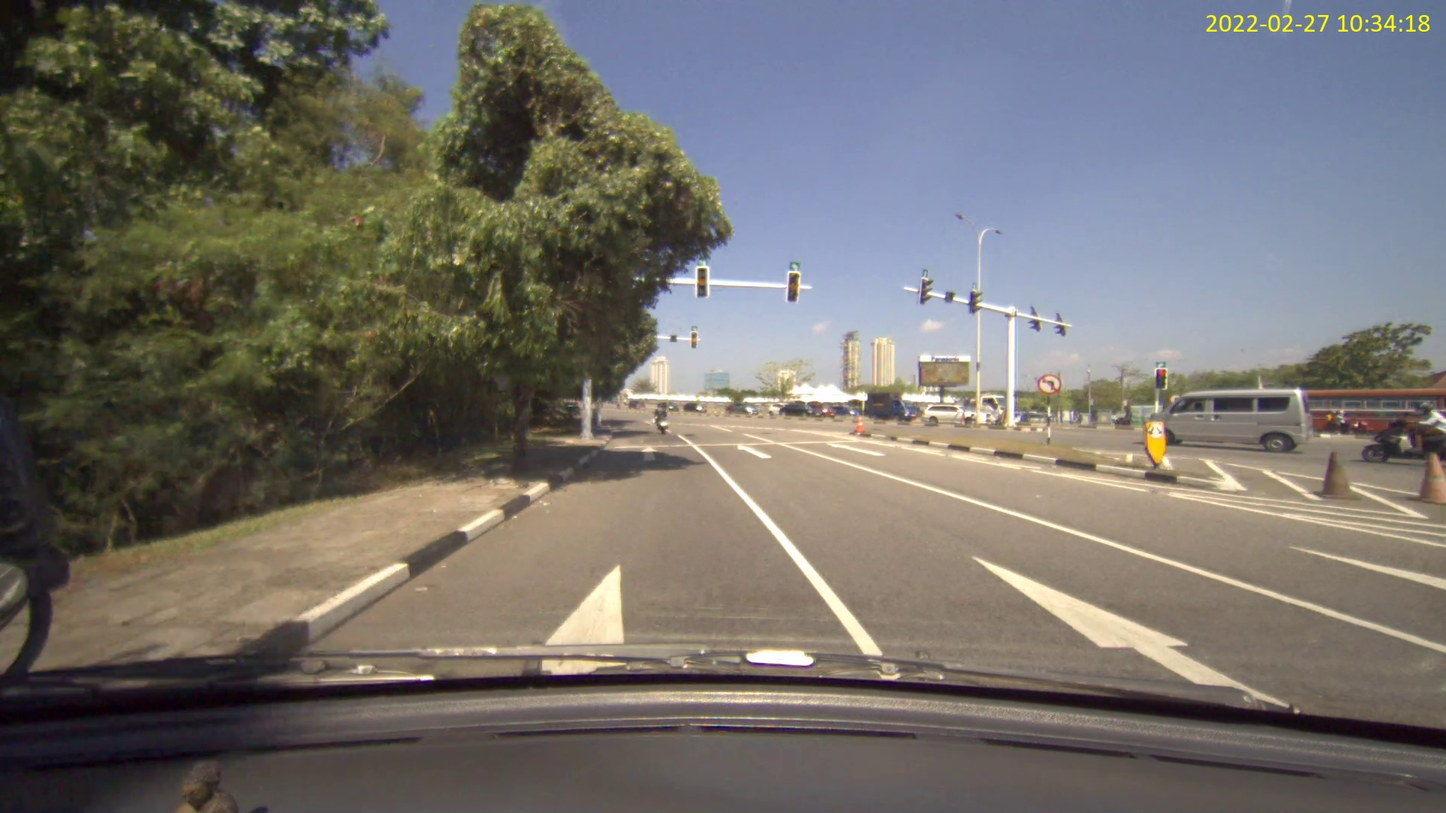Red: (1154, 367, 1167, 390)
Yellow: (694, 266, 709, 299), (786, 269, 800, 303), (690, 331, 697, 349)
